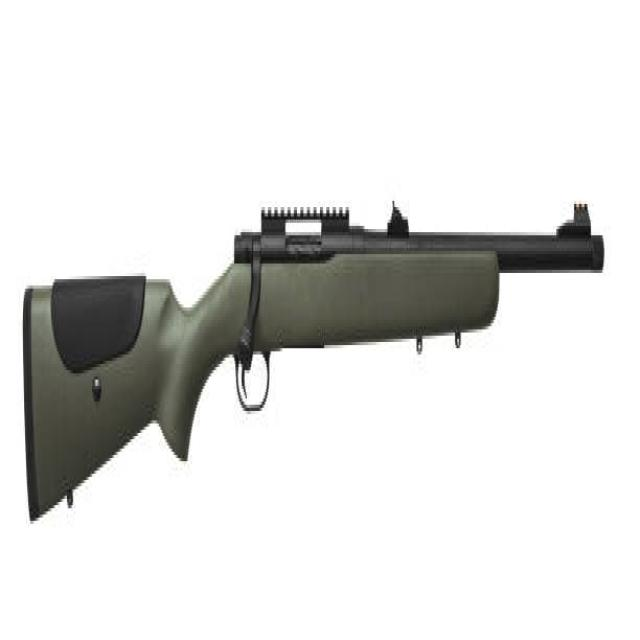rifle: (21, 189, 609, 543)
